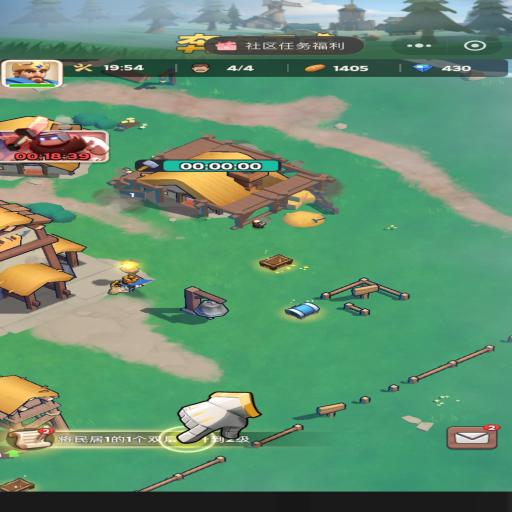newcomer_hand: (174, 390, 260, 443)
